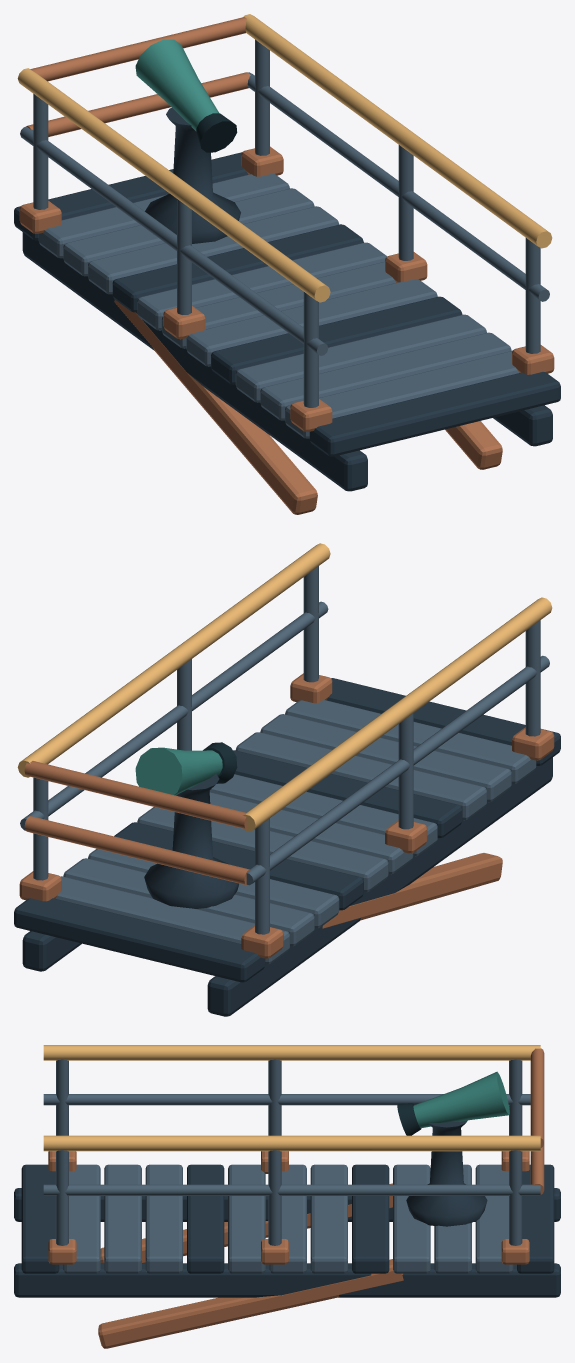
The picture shows the model from 3 angles, top to bottom: view 1: azimuth 30°, elevation 25°; view 2: azimuth 150°, elevation 25°; view 3: azimuth 270°, elevation 25°; orthographic projection. The views are drawn at different scales.
Parts seen in each view (by area): view 1: PR114 enamel and hardware; view 2: PR114 enamel and hardware; view 3: PR114 enamel and hardware.
Boxes of the visible parts, x1=… form: PR114 enamel and hardware: x1=14, y1=14, x2=560, y2=514; PR114 enamel and hardware: x1=14, y1=543, x2=560, y2=1016; PR114 enamel and hardware: x1=14, y1=1045, x2=560, y2=1348.
Bounding box in the file's own units: 0.7504 × 0.8 × 1.69.
